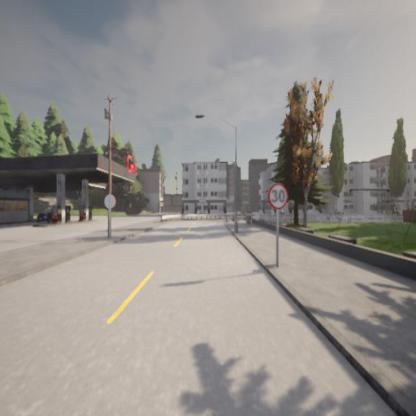traffic_sign_30: (268, 183, 288, 209)
